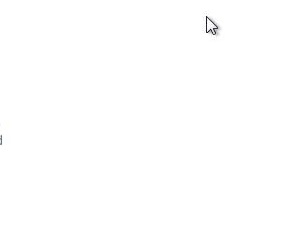cursor: (204, 14, 219, 36)
